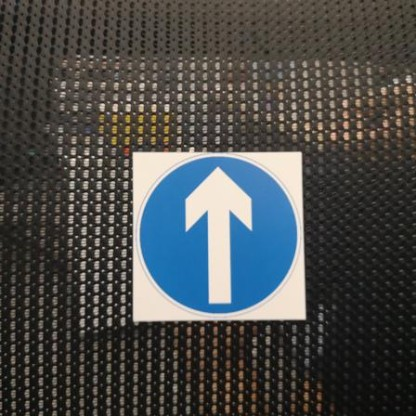forward: (132, 151, 307, 323)
